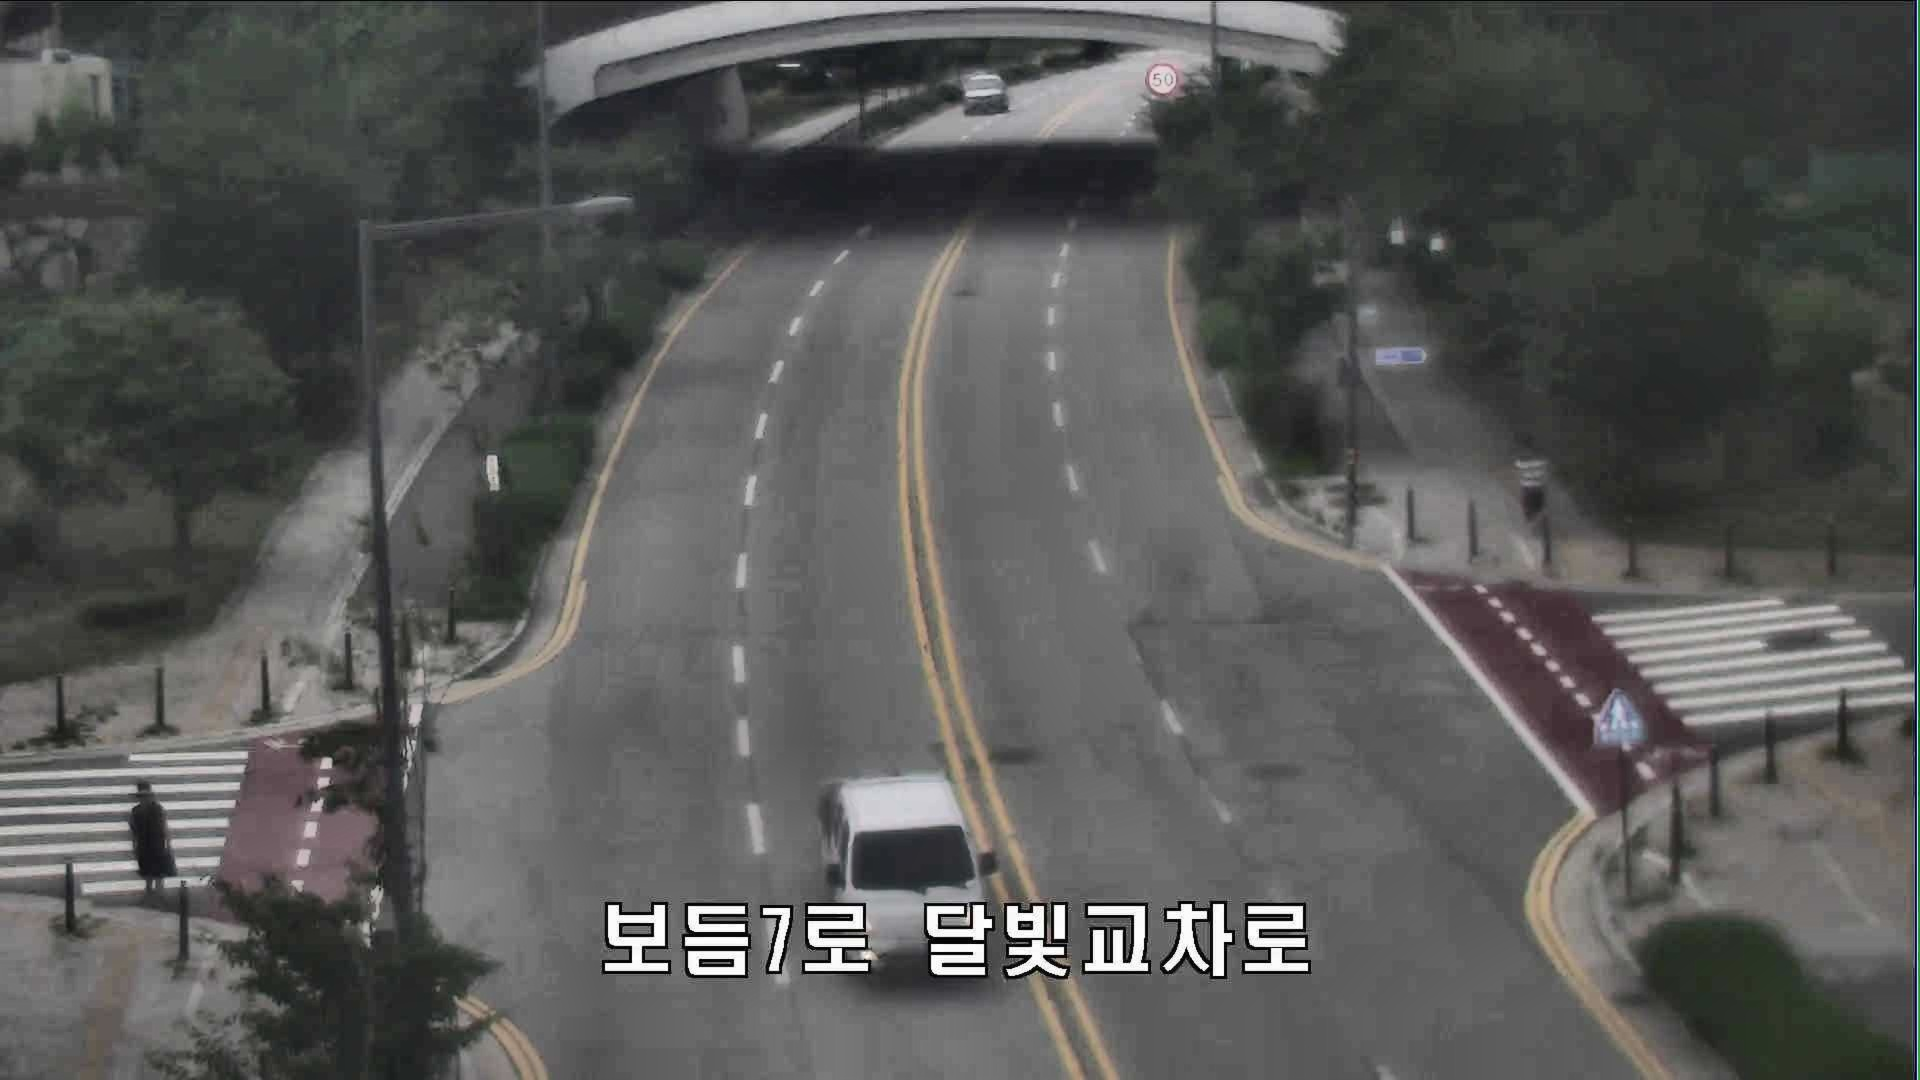crosswalk: (125, 779, 174, 895)
sidewalk: (1507, 434, 1553, 531)
